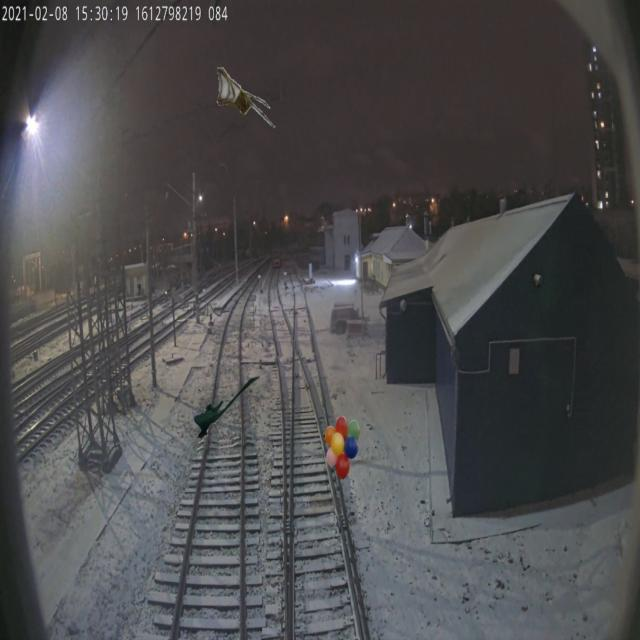balloon: (324, 416, 360, 480)
floating object: (194, 374, 261, 438), (217, 67, 277, 132)
